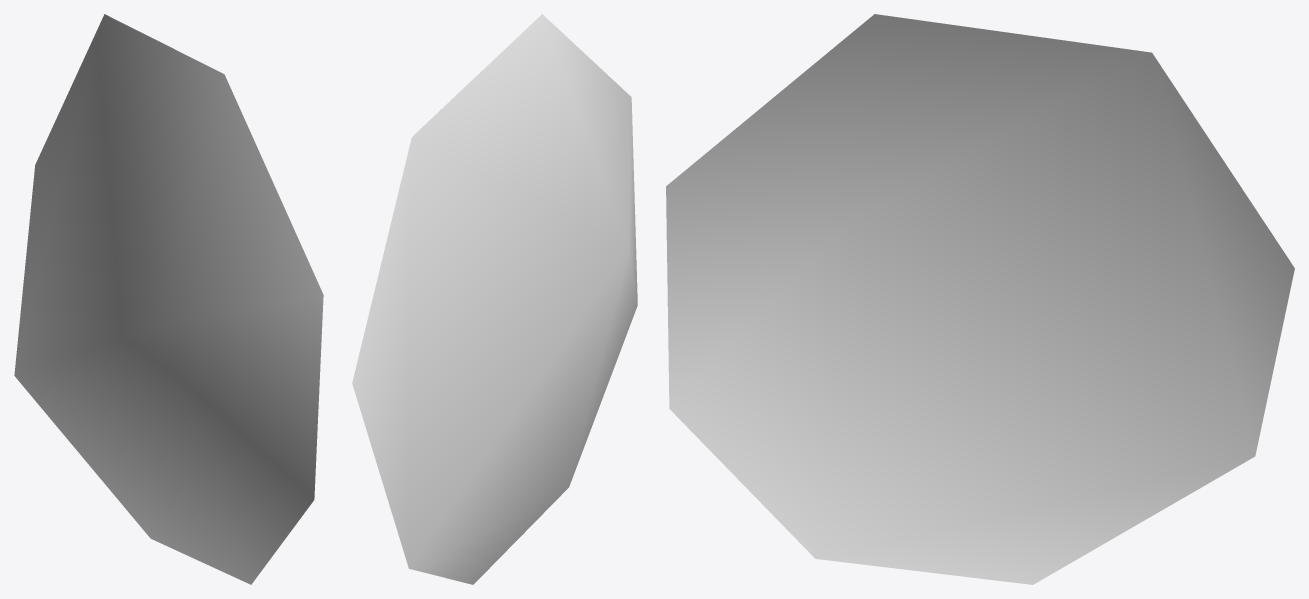
3 renders of one model, left to right at view 1: azimuth 30°, elevation 25°; view 2: azimuth 150°, elevation 25°; view 3: azimuth 270°, elevation 25°, orthographic. The views are drawn at different scales.
Size of the model in its own units: 0.0406 by 0.2483 by 0.2472.
Materials: 1 (1 with a texture image).
